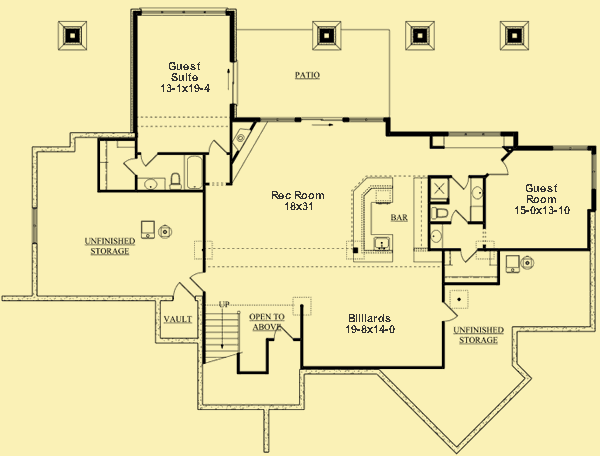door: (173, 281, 196, 300), (139, 149, 163, 166), (448, 173, 469, 192), (442, 301, 460, 322), (458, 247, 479, 264), (190, 271, 206, 293), (450, 208, 469, 223), (123, 157, 137, 176)
large_sink: (427, 206, 452, 222), (168, 171, 185, 189)
small_sink: (136, 175, 166, 191), (471, 179, 486, 209), (430, 221, 444, 248)
stairs: (203, 299, 241, 365)
tub: (183, 153, 205, 192)
windows: (140, 8, 228, 17), (444, 130, 502, 137), (31, 204, 39, 245), (347, 115, 385, 123), (258, 116, 296, 123), (591, 154, 598, 189), (553, 145, 587, 151)
